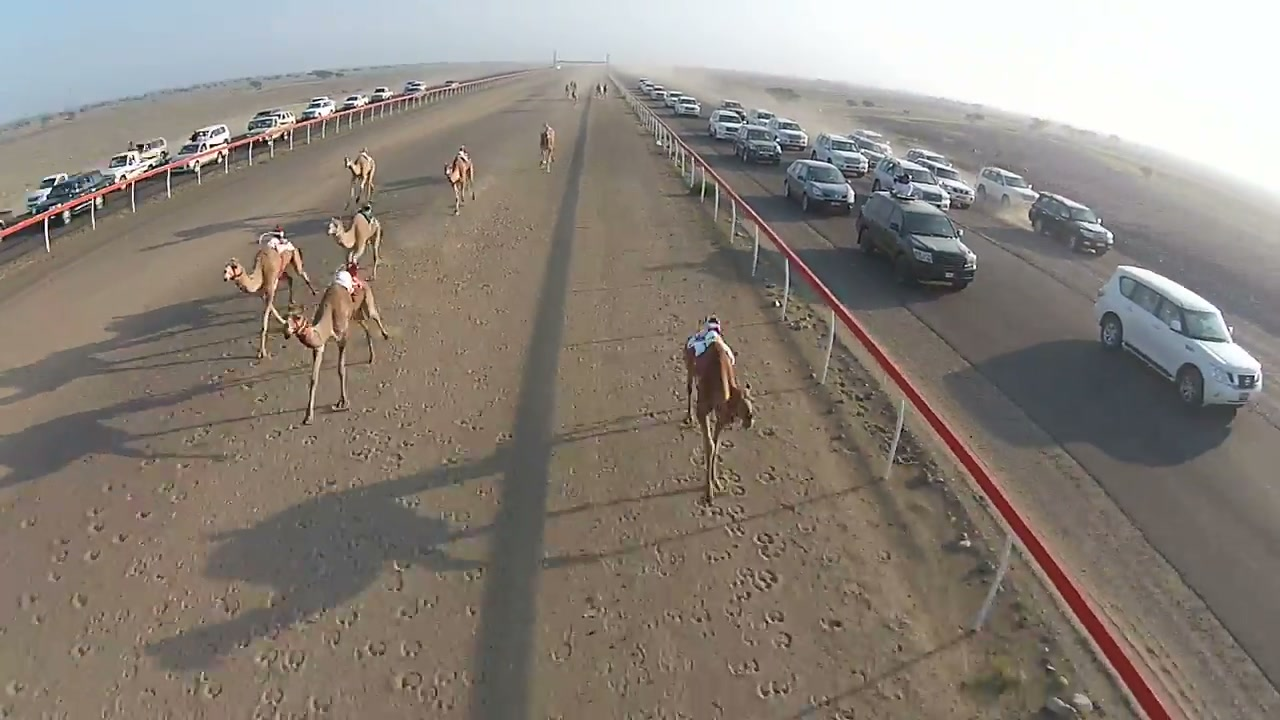animal_foot_print: (6, 392, 308, 660), (246, 418, 433, 719), (688, 456, 808, 708)
